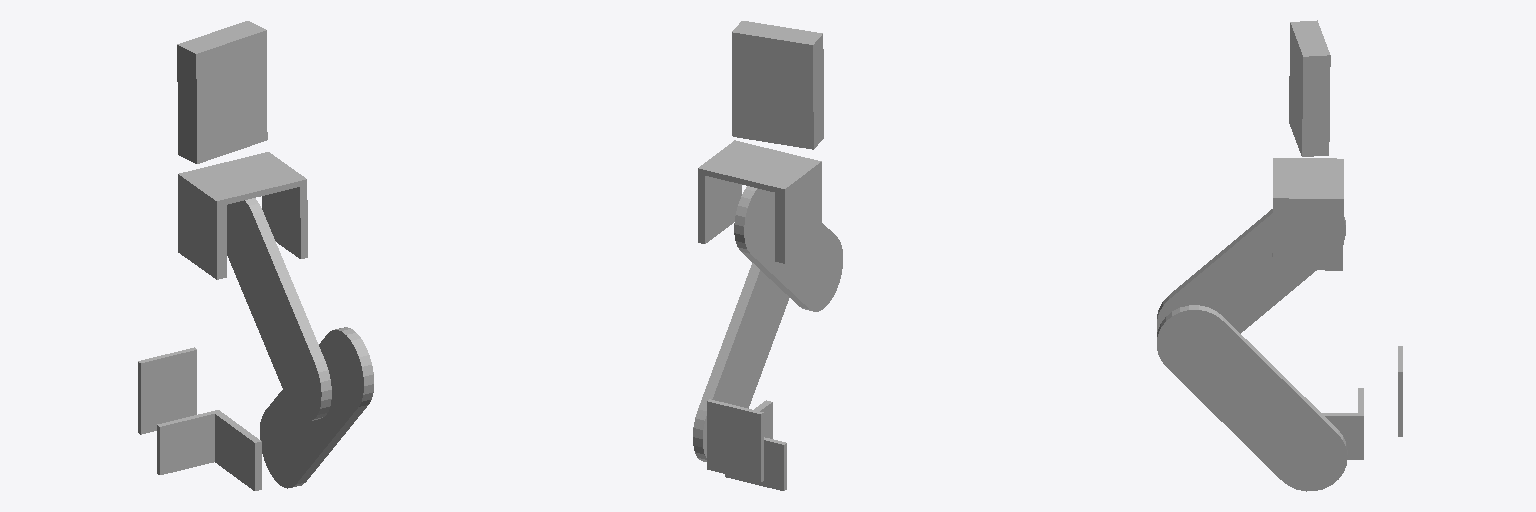
robot.urdf — _BarBot.SLDASM:
<?xml version="1.0"?>

<robot
  name="_BarBot.SLDASM">
  <link
    name="base_link">
    <inertial>
      <origin
        xyz="0.0330354674710698 -0.0025 3.45312668591306E-18"
        rpy="0 0 0" />
      <mass
        value="0.018185574036027" />
      <inertia
        ixx="0"
        ixy="0"
        ixz="0"
        iyy="0"
        iyz="0"
        izz="0" />
    </inertial>
    <visual>
      <origin
        xyz="0 0 0"
        rpy="0 -1.5708 0" />
      <geometry>
        <mesh
          filename="package://bar-bot/mesh/base_link.STL" />
      </geometry>
      <material
        name="">
        <color
          rgba="0.752941176470588 0.752941176470588 0.752941176470588 1" />
      </material>
    </visual>
    <collision>
      <origin
        xyz="0 0 0"
        rpy="0 0 0" />
      <geometry>
        <mesh
          filename="package://bar-bot/mesh/base_link.STL" />
      </geometry>
    </collision>
  </link>
  <link
    name="link_1">
    <inertial>
      <origin
        xyz="0.0238623618445129 -8.95214322161922E-07 -0.0156442716331343"
        rpy="0 0 0" />
      <mass
        value="0.0344061528152689" />
      <inertia
        ixx="0"
        ixy="0"
        ixz="0"
        iyy="0"
        iyz="0"
        izz="0" />
    </inertial>
    <visual>
      <origin
        xyz="0 0 0"
        rpy="0 0 0" />
      <geometry>
        <mesh
          filename="package://bar-bot/mesh/link_1.STL" />
      </geometry>
      <material
        name="">
        <color
          rgba="0.752941176470588 0.752941176470588 0.752941176470588 1" />
      </material>
    </visual>
    <collision>
      <origin
        xyz="0 0 0"
        rpy="0 0 0" />
      <geometry>
        <mesh
          filename="package://bar-bot/mesh/link_1.STL" />
      </geometry>
    </collision>
  </link>
  <joint
    name="joint_1"
    type="continuous">
    <origin
      xyz="0 -0.0361 0"
      rpy="1.5709 -6.1234E-17 -1.5708" />
    <parent
      link="base_link" />
    <child
      link="link_1" />
    <axis
      xyz="0 -5.7223E-05 -1" />
    <limit
      lower="-3.14"
      upper="3.14"
      effort="0"
      velocity="0" />
  </joint>
  <link
    name="link_2">
    <inertial>
      <origin
        xyz="0.0772824502181849 0.0035678620681055 0.00499685261922076"
        rpy="0 0 0" />
      <mass
        value="0.147378954309203" />
      <inertia
        ixx="0"
        ixy="0"
        ixz="0"
        iyy="0"
        iyz="0"
        izz="0" />
    </inertial>
    <visual>
      <origin
        xyz="0 0 0"
        rpy="0 0 0" />
      <geometry>
        <mesh
          filename="package://bar-bot/mesh/link_2.STL" />
      </geometry>
      <material
        name="">
        <color
          rgba="0.752941176470588 0.752941176470588 0.752941176470588 1" />
      </material>
    </visual>
    <collision>
      <origin
        xyz="0 0 0"
        rpy="0 0 0" />
      <geometry>
        <mesh
          filename="package://bar-bot/mesh/link_2.STL" />
      </geometry>
    </collision>
  </link>
  <joint
    name="joint_2"
    type="continuous">
    <origin
      xyz="0.049993 0.00059543 -0.0611"
      rpy="3.1415 8.4143E-05 0.82599" />
    <parent
      link="link_1" />
    <child
      link="link_2" />
    <axis
      xyz="0.67783 0.73522 0" />
    <limit
      lower="-3.14"
      upper="3.14"
      effort="0"
      velocity="0" />
  </joint>
  <link
    name="link_3">
    <inertial>
      <origin
        xyz="0.0643391001103347 -0.00276100226159959 0.00500915574291591"
        rpy="0 0 0" />
      <mass
        value="0.137479459372592" />
      <inertia
        ixx="0"
        ixy="0"
        ixz="0"
        iyy="0"
        iyz="0"
        izz="0" />
    </inertial>
    <visual>
      <origin
        xyz="0 0 0"
        rpy="0 0 0" />
      <geometry>
        <mesh
          filename="package://bar-bot/mesh/link_3.STL" />
      </geometry>
      <material
        name="">
        <color
          rgba="0.752941176470588 0.752941176470588 0.752941176470588 1" />
      </material>
    </visual>
    <collision>
      <origin
        xyz="0 0 0"
        rpy="0 0 0" />
      <geometry>
        <mesh
          filename="package://bar-bot/mesh/link_3.STL" />
      </geometry>
    </collision>
  </link>
  <joint
    name="joint_3"
    type="continuous">
    <origin
      xyz="0.15513 0.00041367 -0.0311"
      rpy="3.1416 8.6407E-16 -1.5711" />
    <parent
      link="link_2" />
    <child
      link="link_3" />
    <axis
      xyz="-0.73542 -0.67762 0" />
    <limit
      lower="-3.14"
      upper="3.14"
      effort="0"
      velocity="0" />
  </joint>
  <link
    name="link_4">
    <inertial>
      <origin
        xyz="0.0214364648812962 0.0417475460030143 0.00855530646920914"
        rpy="0 0 0" />
      <mass
        value="0.104469603548198" />
      <inertia
        ixx="0"
        ixy="0"
        ixz="0"
        iyy="0"
        iyz="0"
        izz="0" />
    </inertial>
    <visual>
      <origin
        xyz="0 0 0"
        rpy="0 0 0" />
      <geometry>
        <mesh
          filename="package://bar-bot/mesh/link_4.STL" />
      </geometry>
      <material
        name="">
        <color
          rgba="0.752941176470588 0.752941176470588 0.752941176470588 1" />
      </material>
    </visual>
    <collision>
      <origin
        xyz="0 0 0"
        rpy="0 0 0" />
      <geometry>
        <mesh
          filename="package://bar-bot/mesh/link_4.STL" />
      </geometry>
    </collision>
  </link>
  <joint
    name="joint_4"
    type="continuous">
    <origin
      xyz="0.14142 0 -0.0311"
      rpy="1.5708 1.623E-15 -0.81423" />
    <parent
      link="link_3" />
    <child
      link="link_4" />
    <axis
      xyz="0.99993 5.7223E-05 0.012049" />
    <limit
      lower="-3.14"
      upper="3.14"
      effort="0"
      velocity="0" />
  </joint>
  <link
    name="link_grippy">
    <inertial>
      <origin
        xyz="-0.00137042952810423 -0.00844484487262941 0.0504939996970407"
        rpy="0 0 0" />
      <mass
        value="0.196644768" />
      <inertia
        ixx="0"
        ixy="0"
        ixz="0"
        iyy="0"
        iyz="0"
        izz="0" />
    </inertial>
    <visual>
      <origin
        xyz="0 0 0"
        rpy="0 0 0" />
      <geometry>
        <mesh
          filename="package://bar-bot/mesh/link_grippy.STL" />
      </geometry>
      <material
        name="">
        <color
          rgba="0.752941176470588 0.752941176470588 0.752941176470588 1" />
      </material>
    </visual>
    <collision>
      <origin
        xyz="0 0 0"
        rpy="0 0 0" />
      <geometry>
        <mesh
          filename="package://bar-bot/mesh/link_grippy.STL" />
      </geometry>
    </collision>
  </link>
  <joint
    name="joint_5"
    type="continuous">
    <origin
      xyz="0.0811 0.0561 0"
      rpy="-1.5708 0.15859 -1.5708" />
    <parent
      link="link_4" />
    <child
      link="link_grippy" />
    <axis
      xyz="-0.15792 -0.98738 -0.012049" />
    <limit
      lower="-3.14"
      upper="3.14"
      effort="0"
      velocity="0" />
  </joint>
</robot>

--- Facts derived from the render (not from the file) ---
Views: 3 orthographic renders of the robot side by side, from view 1: azimuth 30°, elevation 25°; view 2: azimuth 150°, elevation 25°; view 3: azimuth 270°, elevation 25°.
Robot: _BarBot.SLDASM — 6 links, 5 joints (5 continuous); root link base_link; default pose: all joints at 0.
Visible links, largest first — view 1: link_grippy, link_3, link_4, link_2, link_1, base_link; view 2: link_grippy, link_4, link_2, link_3, base_link, link_1; view 3: link_2, link_4, link_3, link_grippy, link_1.
Boxes of the visible links, bbox=[...] form: link_grippy: bbox=[177, 21, 267, 163]; link_3: bbox=[227, 198, 331, 420]; link_4: bbox=[178, 152, 307, 279]; link_2: bbox=[260, 327, 373, 488]; link_1: bbox=[157, 410, 261, 490]; base_link: bbox=[138, 347, 196, 434]; link_grippy: bbox=[732, 21, 823, 149]; link_4: bbox=[698, 140, 821, 263]; link_2: bbox=[693, 263, 789, 461]; link_3: bbox=[734, 186, 842, 311]; base_link: bbox=[707, 399, 763, 482]; link_1: bbox=[725, 400, 786, 490]; link_2: bbox=[1157, 305, 1347, 491]; link_4: bbox=[1272, 158, 1343, 270]; link_3: bbox=[1157, 209, 1345, 333]; link_grippy: bbox=[1289, 20, 1330, 156]; link_1: bbox=[1322, 388, 1363, 459].
Size in the robot's own frame: 0.1057 by 0.2265 by 0.4279 metres.
6 mesh visuals loaded from 6 distinct referenced files (6 binary STL).